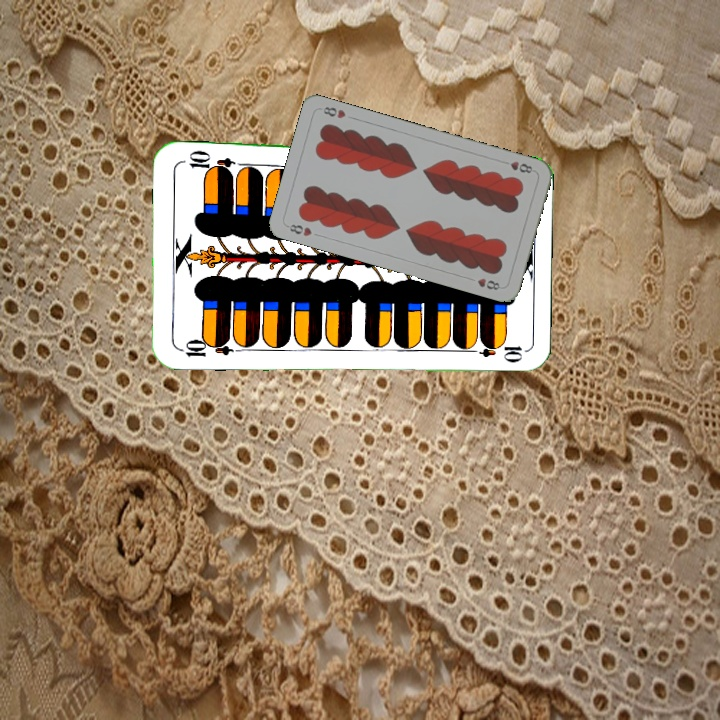E10: (175, 334, 234, 359)
H8: (506, 157, 537, 176), (283, 220, 314, 239)
